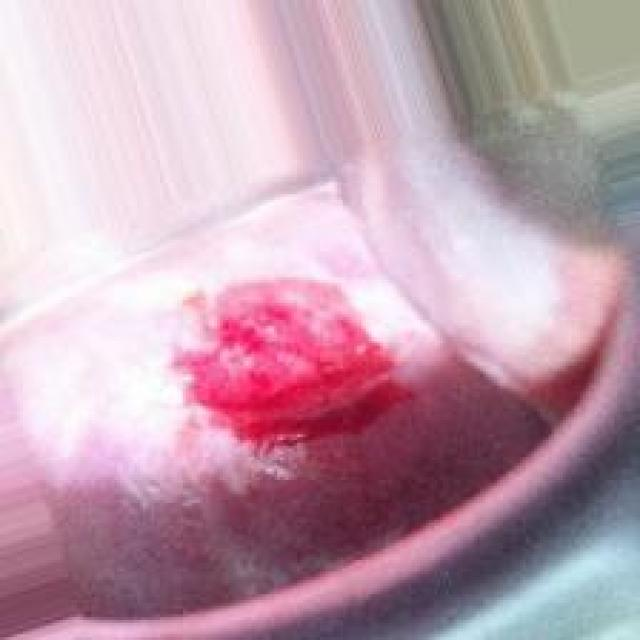type-1: (49, 184, 473, 640)
